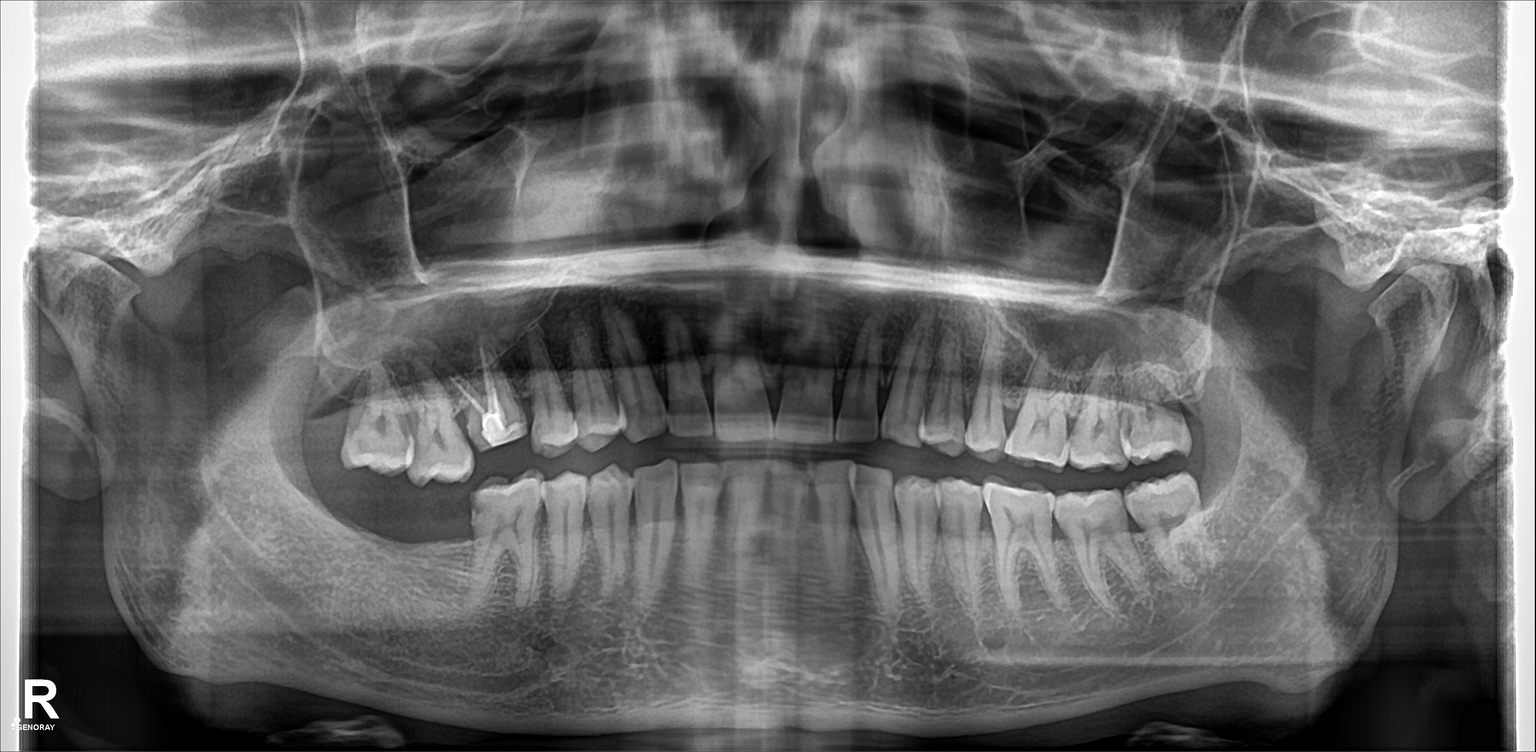Endodontically Treated Tooth: (464, 344, 527, 450)
Missing Tooth: (309, 493, 369, 609), (417, 508, 478, 618), (369, 501, 414, 615), (1177, 382, 1235, 463), (313, 359, 353, 472)
